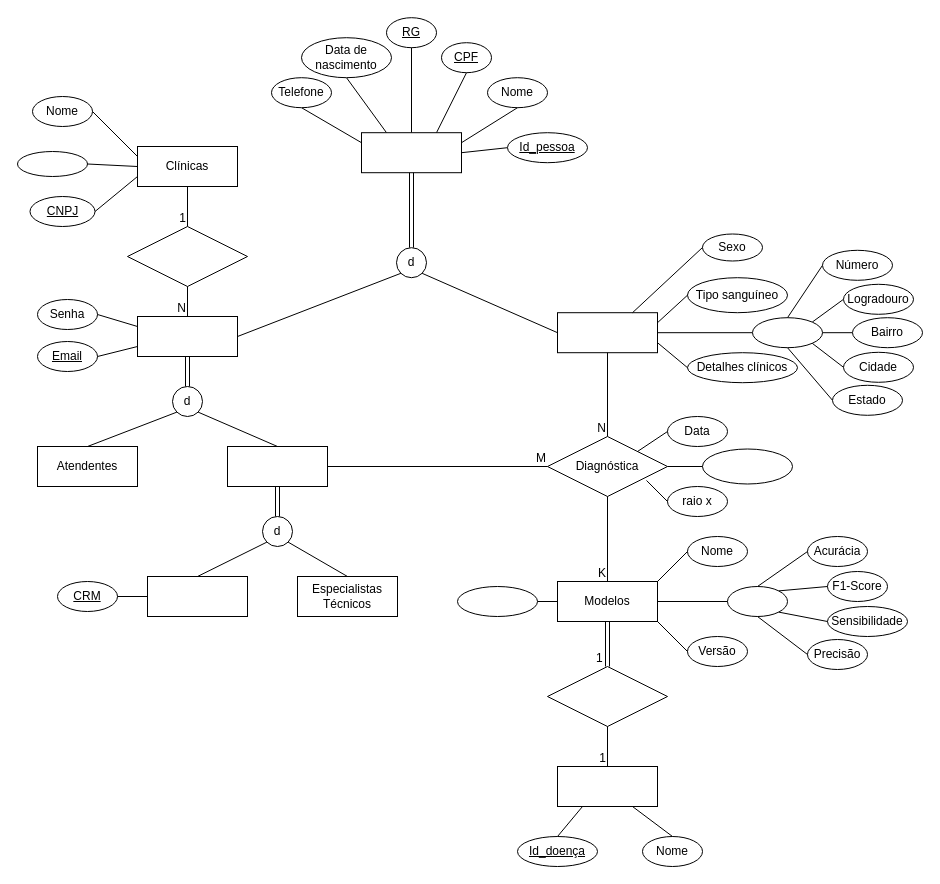
Image size: 940x884. Some labels were removed from this diagram. Each missing label, with the centre of its shape:
Doenças: pixel 607 786
Endereço: pixel 787 332
Especialistas: pixel 277 466
Funcionários: pixel 187 336
Id_clinica: pixel 52 163
Id_diagnótico: pixel 747 466
Id_modelo: pixel 497 601
Médicos: pixel 197 596
Métricas: pixel 757 601
Pacientes: pixel 607 332
Pessoas: pixel 411 152
Prediz: pixel 607 696
Trabalha: pixel 187 256
